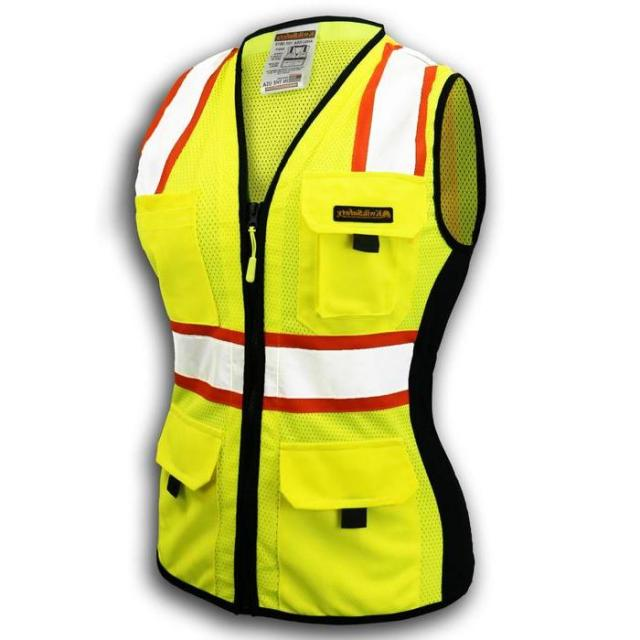Reflective-Jacket: (97, 1, 532, 640)
